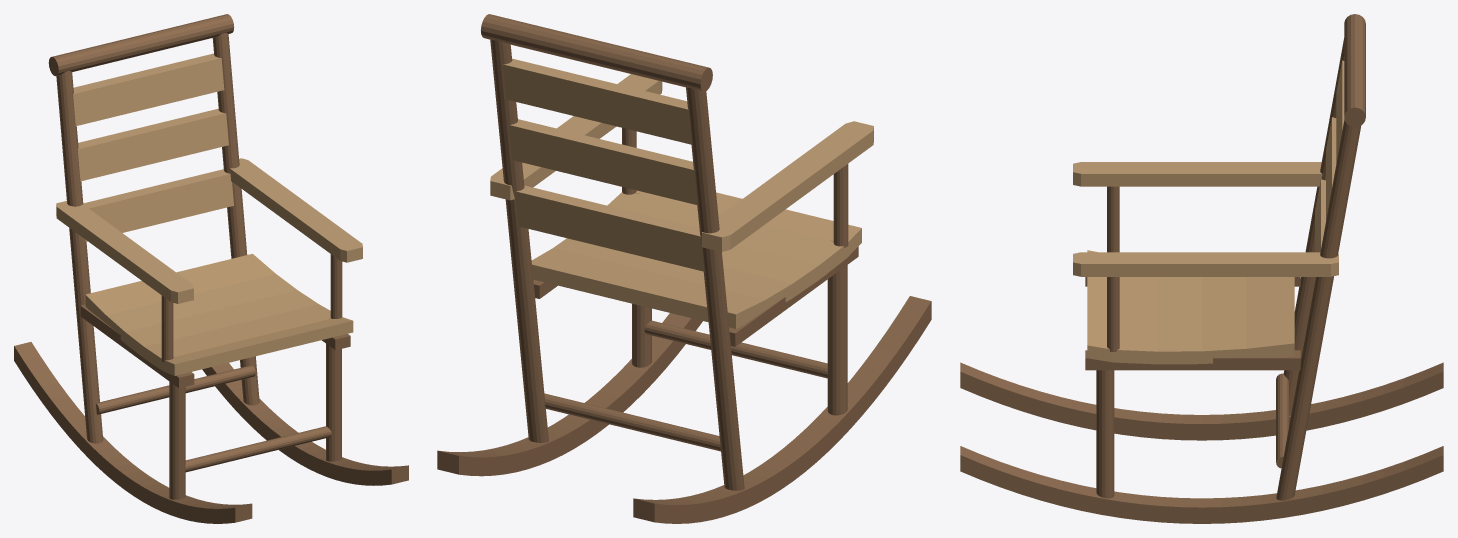
3 renders of one model, left to right at view 1: azimuth 30°, elevation 25°; view 2: azimuth 150°, elevation 25°; view 3: azimuth 270°, elevation 25°, orthographic. The views are drawn at different scales.
Parts seen in each view (by area): view 1: WholeGentlyDishedSeat, WholeBothEndsRaisedCurvedRocker_-1, InclinedBackSlat_1, InclinedBackSlat_2, WholeInclinedRearLegAndBackPost_-1, InclinedBackSlat_0, WholeBothEndsRaisedCurvedRocker_1, WholeRoundedEndArmBoard_-1, WholeRoundedEndArmBoard_1, UpperBackCrest, WholeInclinedRearLegAndBackPost_1, FrontSeatLeg_-1 (+6 smaller); view 2: WholeGentlyDishedSeat, WholeBothEndsRaisedCurvedRocker_-1, InclinedBackSlat_0, InclinedBackSlat_2, InclinedBackSlat_1, WholeInclinedRearLegAndBackPost_-1, WholeBothEndsRaisedCurvedRocker_1, WholeInclinedRearLegAndBackPost_1, WholeRoundedEndArmBoard_-1, UpperBackCrest, FrontSeatLeg_-1, LowTransverseTie_1 (+5 smaller); view 3: WholeGentlyDishedSeat, WholeBothEndsRaisedCurvedRocker_1, WholeBothEndsRaisedCurvedRocker_-1, WholeInclinedRearLegAndBackPost_1, WholeRoundedEndArmBoard_1, WholeRoundedEndArmBoard_-1, FrontSeatLeg_1, UpperBackCrest, SeatSideBearer_1, WholeInclinedRearLegAndBackPost_-1, LowTransverseTie_1, FrontArmSupport_1 (+4 smaller).
Boxes of the visible parts, left/top/right/bottom form: WholeGentlyDishedSeat: left=85, top=253, right=353, bottom=375; WholeBothEndsRaisedCurvedRocker_-1: left=14, top=342, right=252, bottom=523; InclinedBackSlat_1: left=77, top=108, right=228, bottom=181; InclinedBackSlat_2: left=73, top=53, right=224, bottom=125; WholeInclinedRearLegAndBackPost_-1: left=56, top=71, right=103, bottom=443; InclinedBackSlat_0: left=83, top=169, right=233, bottom=241; WholeBothEndsRaisedCurvedRocker_1: left=202, top=363, right=408, bottom=485; WholeRoundedEndArmBoard_-1: left=56, top=201, right=193, bottom=303; WholeRoundedEndArmBoard_1: left=229, top=158, right=362, bottom=262; UpperBackCrest: left=48, top=14, right=234, bottom=76; WholeInclinedRearLegAndBackPost_1: left=212, top=32, right=259, bottom=405; FrontSeatLeg_-1: left=169, top=356, right=185, bottom=499; WholeGentlyDishedSeat: left=531, top=190, right=861, bottom=328; WholeBothEndsRaisedCurvedRocker_-1: left=633, top=296, right=931, bottom=523; InclinedBackSlat_0: left=515, top=185, right=704, bottom=271; InclinedBackSlat_2: left=503, top=58, right=692, bottom=144; InclinedBackSlat_1: left=509, top=119, right=697, bottom=205; WholeInclinedRearLegAndBackPost_-1: left=686, top=87, right=744, bottom=490; WholeBothEndsRaisedCurvedRocker_1: left=437, top=313, right=702, bottom=476; WholeInclinedRearLegAndBackPost_1: left=490, top=39, right=548, bottom=442; WholeRoundedEndArmBoard_-1: left=702, top=121, right=873, bottom=251; UpperBackCrest: left=480, top=14, right=712, bottom=91; FrontSeatLeg_-1: left=827, top=240, right=847, bottom=415; LowTransverseTie_1: left=544, top=393, right=720, bottom=451; WholeGentlyDishedSeat: left=1087, top=250, right=1294, bottom=364; WholeBothEndsRaisedCurvedRocker_1: left=960, top=446, right=1443, bottom=523; WholeBothEndsRaisedCurvedRocker_-1: left=960, top=362, right=1443, bottom=440; WholeInclinedRearLegAndBackPost_1: left=1276, top=119, right=1361, bottom=500; WholeRoundedEndArmBoard_1: left=1073, top=252, right=1338, bottom=276; WholeRoundedEndArmBoard_-1: left=1073, top=162, right=1322, bottom=186; FrontSeatLeg_1: left=1096, top=370, right=1114, bottom=498; UpperBackCrest: left=1344, top=14, right=1365, bottom=127; SeatSideBearer_1: left=1085, top=350, right=1300, bottom=370; WholeInclinedRearLegAndBackPost_-1: left=1283, top=38, right=1344, bottom=415; LowTransverseTie_1: left=1276, top=373, right=1288, bottom=468; FrontArmSupport_1: left=1107, top=277, right=1119, bottom=351.
Bounding box in the file's own units: 0.6 × 1.14 × 1.2.
